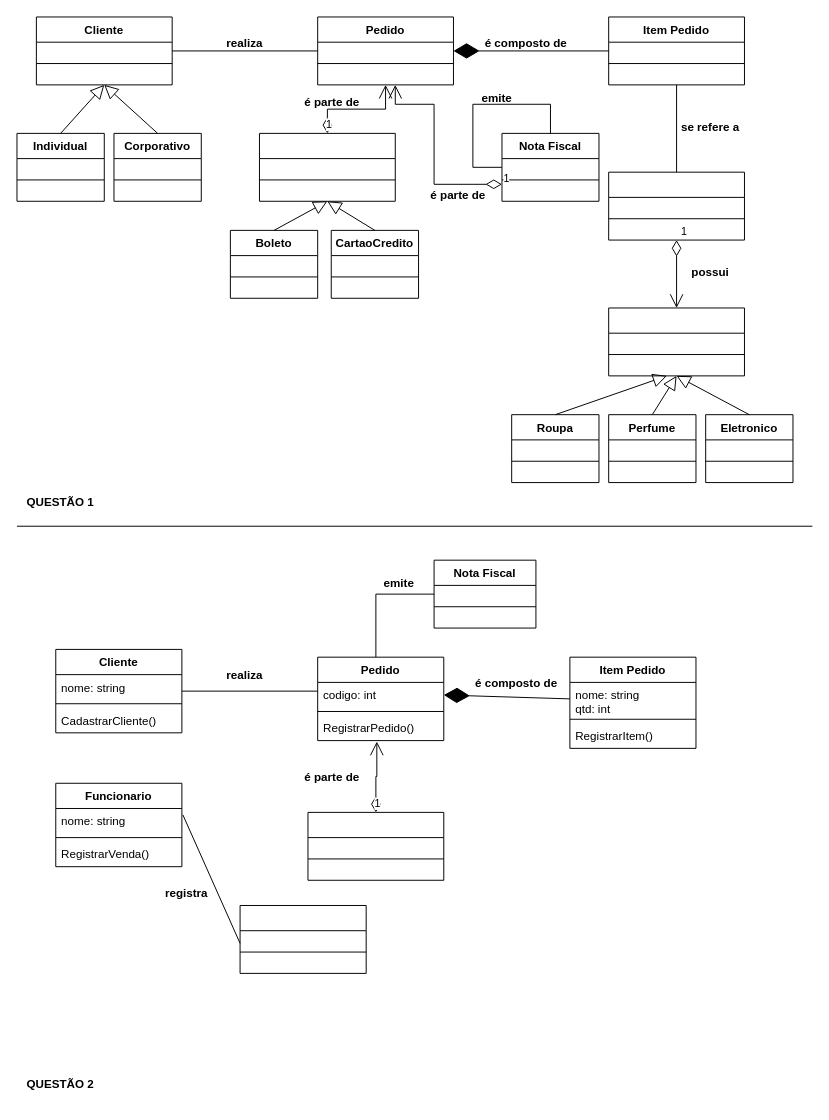
Image size: 829x1120. Some labels were removed from this diagram. The centre of each missing label's shape, as x and y in pixels:
Categoria: point 676,341
Comprovante: point 375,845
Forma Pgto: point 327,166
Produto: point 676,205
Venda: point 302,939
